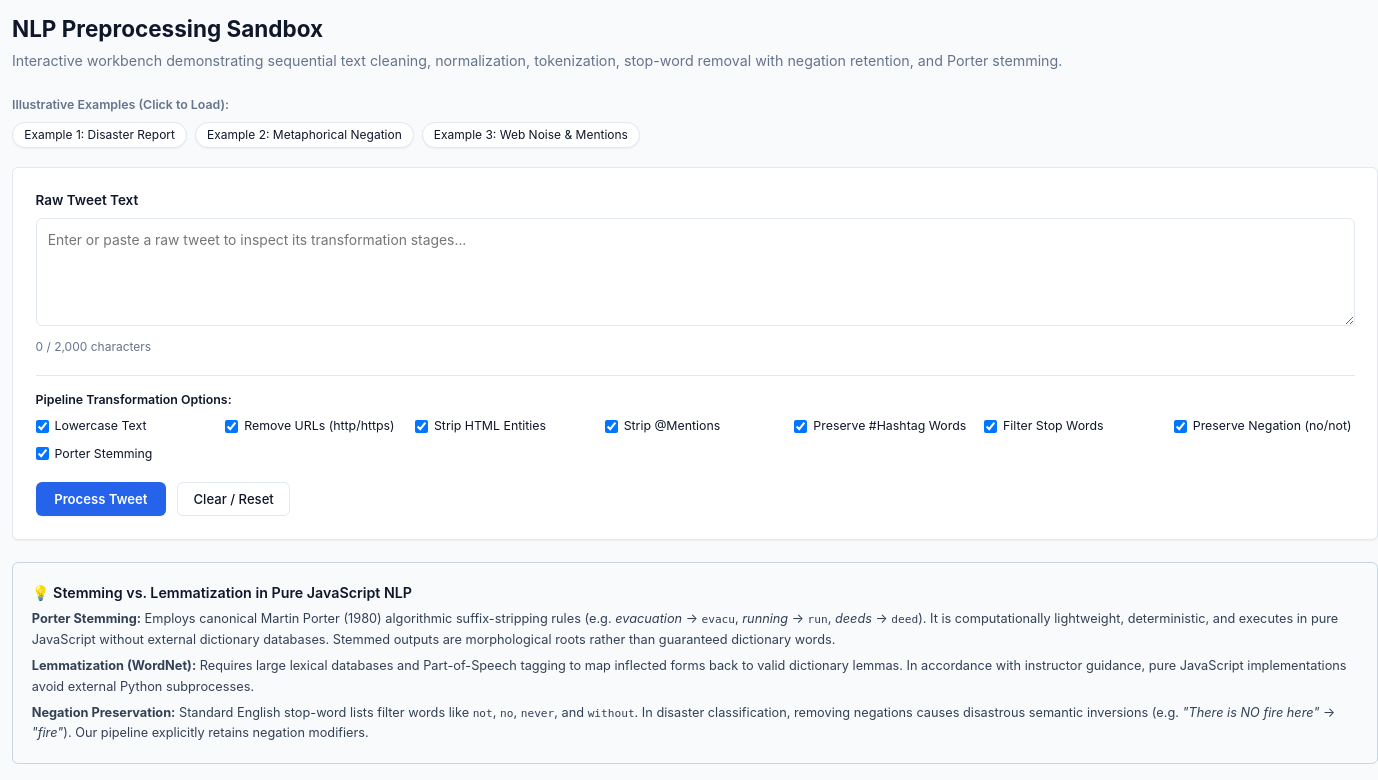
Scenario: PreprocessingSandbox Page Component Tests (T15) › resets input, options, and results when Clear / Reset button is clicked
Replace the text in the text box with placeholder "Enter or paste a raw tweet to inspect" with "Some test tweet": {"x": 695, "y": 272} [36,218,1354,326]
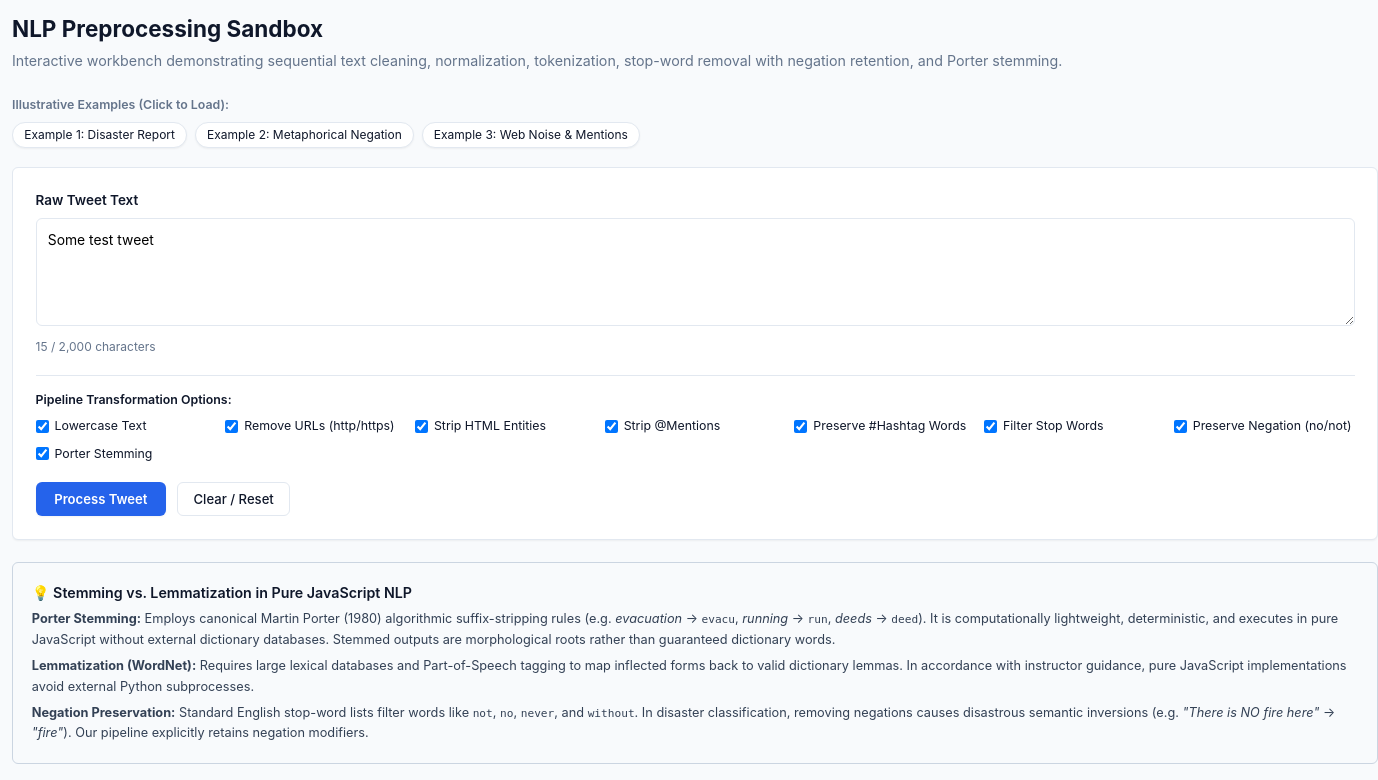
Click the button "Clear / Reset": {"x": 234, "y": 499} [178,482,290,516]
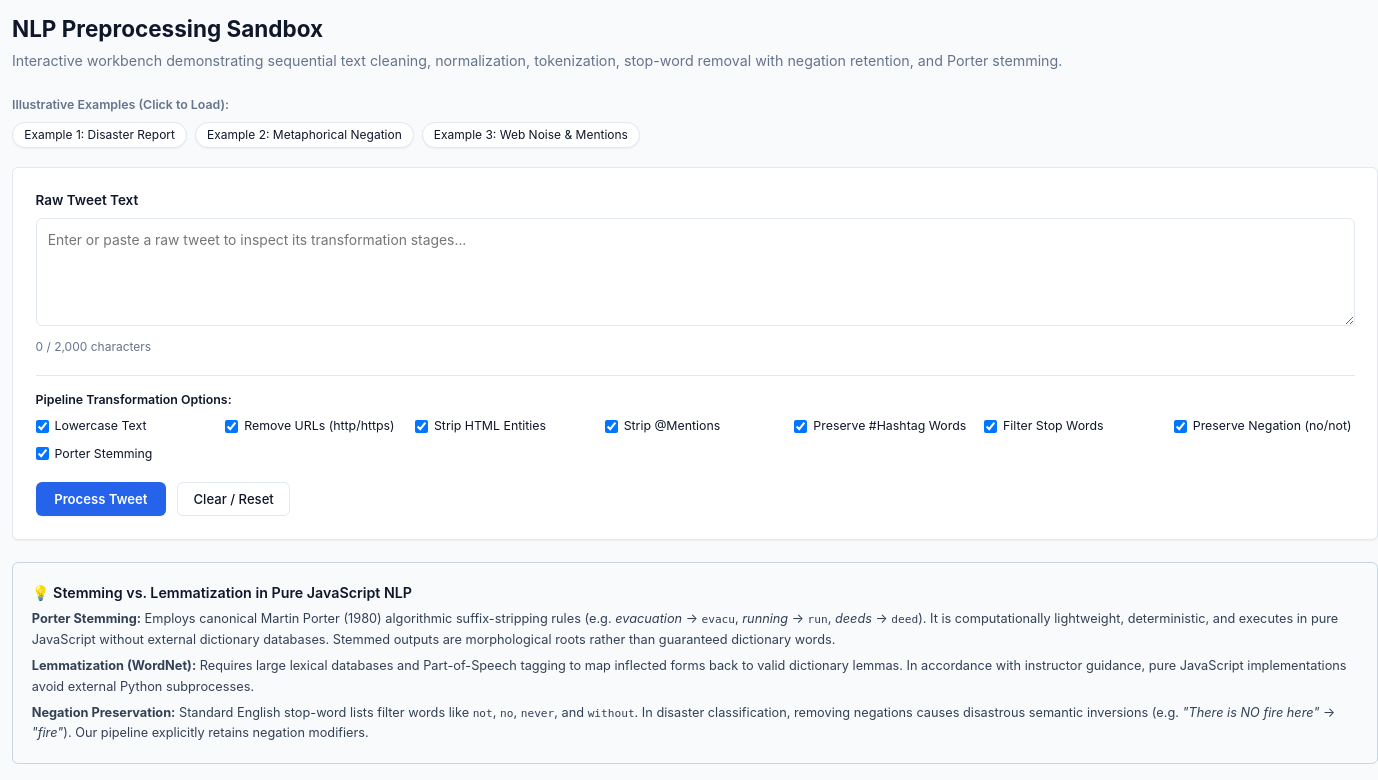
Now the text box with placeholder "Enter or paste a raw tweet to inspect" is empty, box [36,218,1354,326]
Now the text "0 / 2,000 characters" is shown, box [36,338,151,356]
